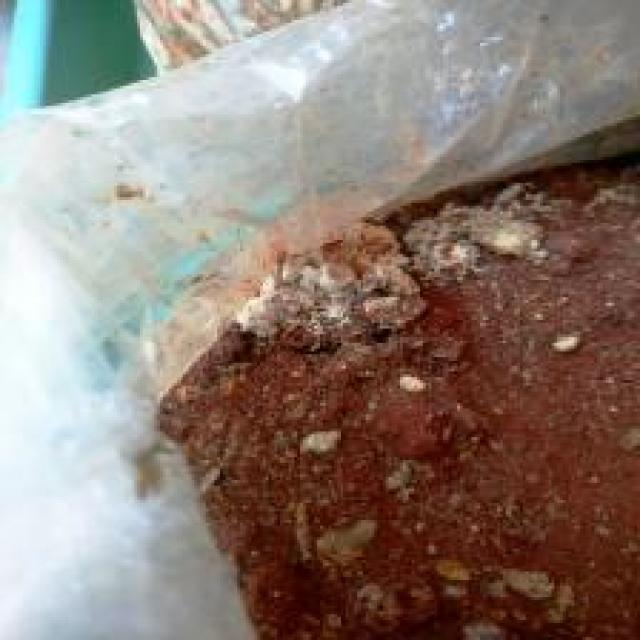chanterelle: (149, 137, 637, 637)
